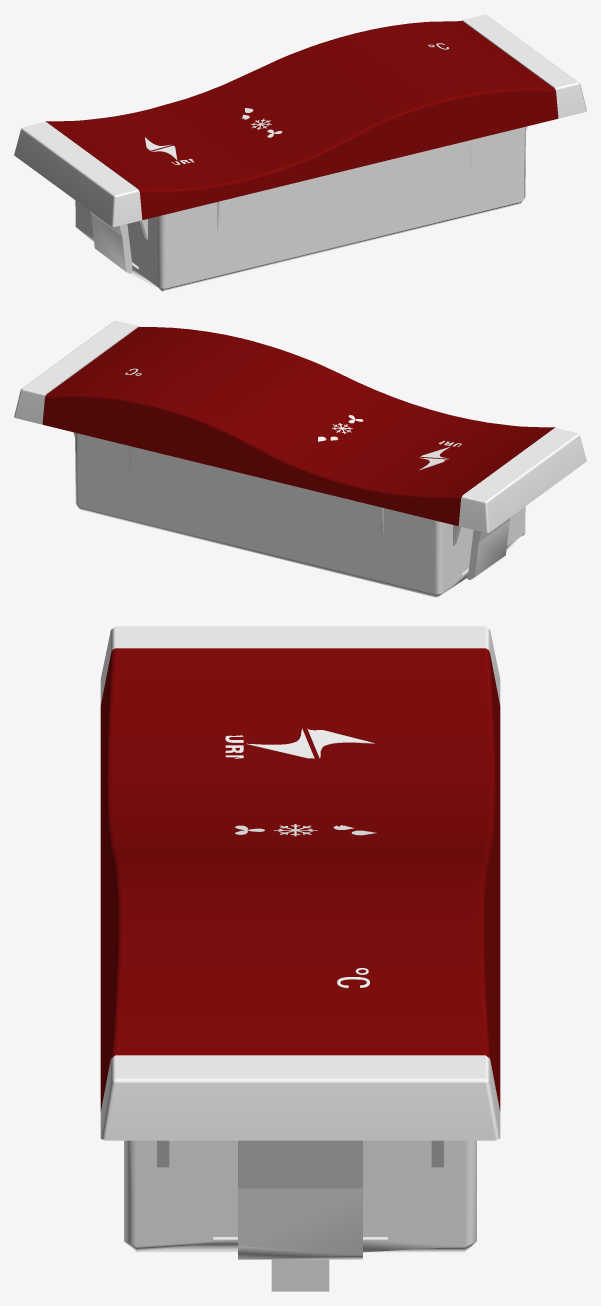
Rendered from wurm-dsp002-low.glb.
3 views of the same model, one above another, from view 1: azimuth 30°, elevation 25°; view 2: azimuth 150°, elevation 25°; view 3: azimuth 270°, elevation 25° (orthographic). The views are drawn at different scales.
Parts seen in each view (by area): view 1: NAUO3; view 2: NAUO3; view 3: NAUO3.
Boxes of the visible parts, x1=… form: NAUO3: x1=14, y1=14, x2=586, y2=291; NAUO3: x1=14, y1=320, x2=586, y2=597; NAUO3: x1=100, y1=626, x2=500, y2=1291.
Bounding box in the file's own units: 0.088 × 0.0255 × 0.032.
Materials: 1 (1 with a texture image).
